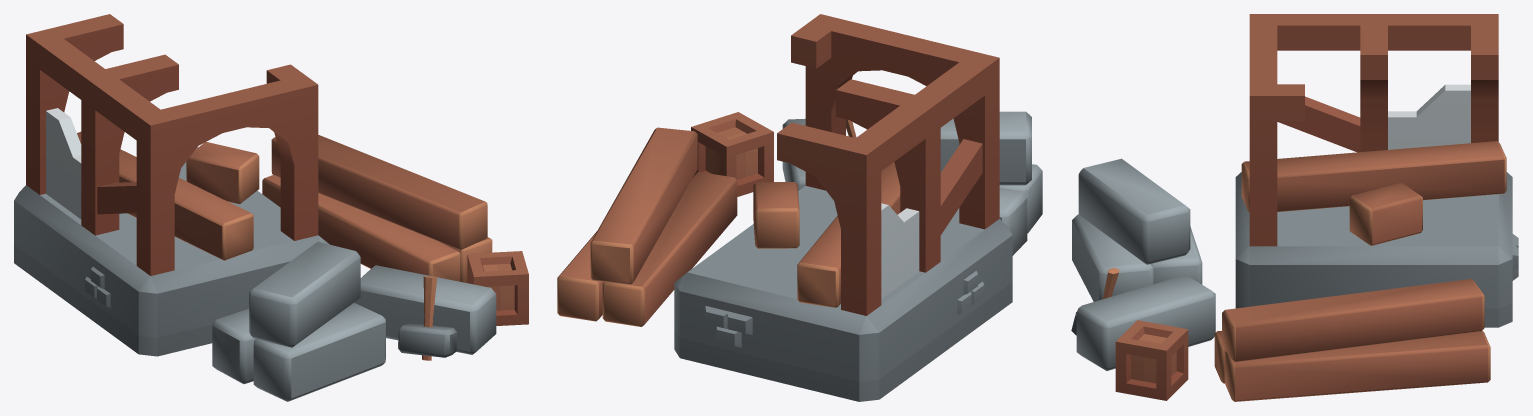
Rendered from construction-walls-up.glb.
3 renders of one model, left to right at view 1: azimuth 30°, elevation 25°; view 2: azimuth 150°, elevation 25°; view 3: azimuth 270°, elevation 25°, orthographic. The views are drawn at different scales.
Visible parts, largest first — view 1: building_stage_B; view 2: building_stage_B; view 3: building_stage_B.
Boxes of the visible parts, box(x1,y1,x2,y2) form: building_stage_B: box(14, 14, 528, 401); building_stage_B: box(557, 14, 1042, 401); building_stage_B: box(1071, 14, 1518, 401).
Size of the model in its own units: 1.02 by 0.6359 by 1.13.
1 material, 1 textured.
